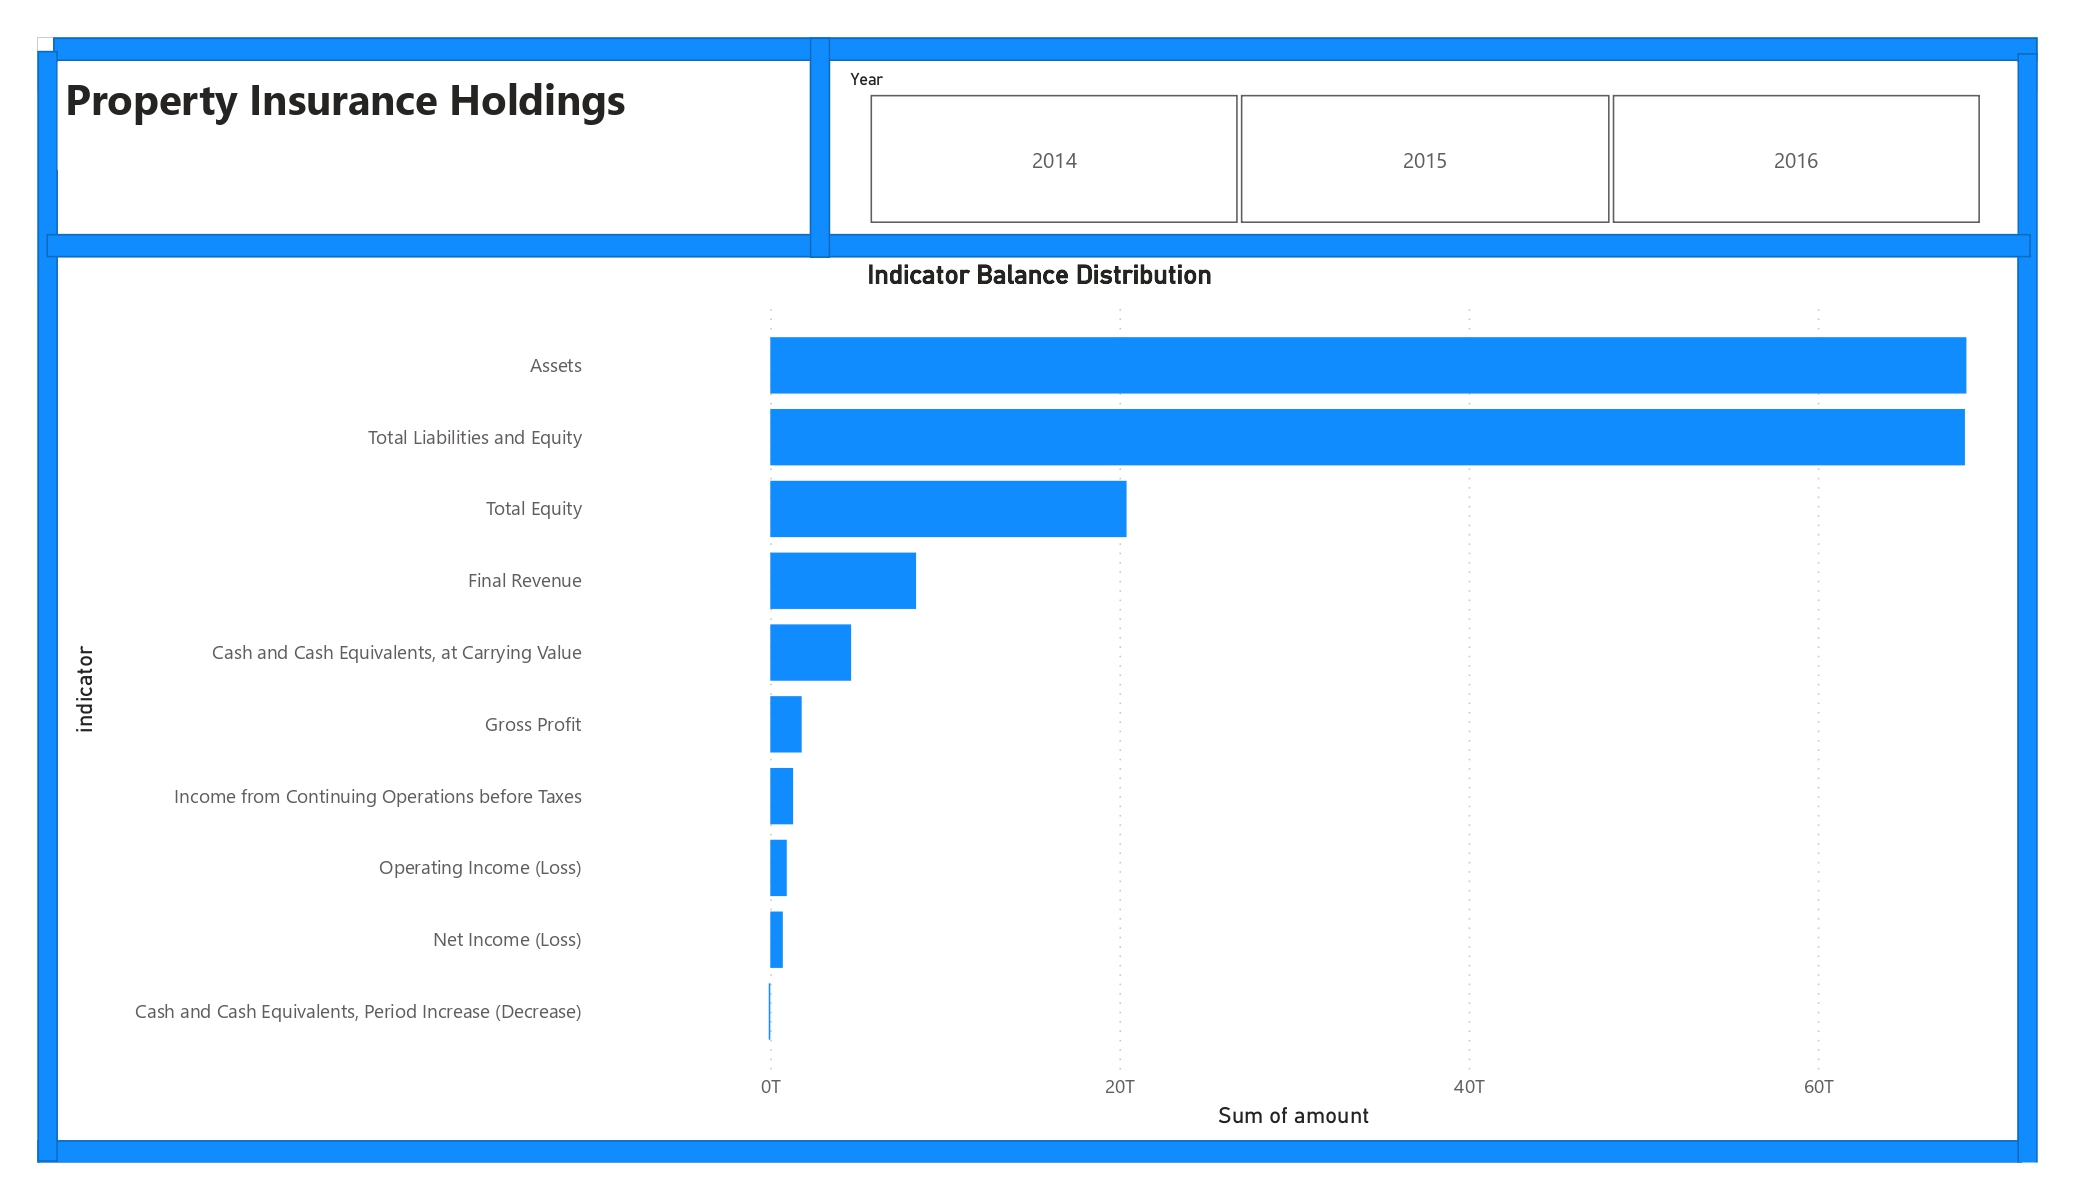

The page's visual inventory and layout, read from the dashboard file:
{"tool":"powerbi","page":{"name":"Page 1","canvas":[1280,720],"ordinal":0},"visuals":[{"type":"shape","box":[10.1,0,1269.9,15.1],"z":0},{"type":"shape","box":[0,705.5,1269.9,15.1],"z":1},{"type":"shape","box":[0,8.4,13.4,710.6],"z":2},{"type":"shape","box":[1266.6,10.1,13.4,710.6],"z":3},{"type":"textbox","box":[13.4,15.1,381.3,68.9],"z":4},{"type":"slicer","fields":{"Values":["fundamentals_dataset.Year"]},"box":[507.1,15.7,760,110],"z":5},{"type":"shape","box":[5,126,1269.9,15.1],"z":6},{"type":"shape","box":[493.9,0,13.4,141.1],"z":7},{"type":"clusteredBarChart","title":"Indicator Balance Distribution","fields":{"Category":["fundamentals_dataset.indicator"],"Y":["Sum(fundamentals_dataset.amount)"]},"box":[17.1,141.4,1248.6,561.4],"z":8}]}

Visuals, with their boxes in screenshot pixels (x1, y1, x2, y2):
shape: [left=53, top=38, right=2038, bottom=61]
shape: [left=38, top=1140, right=2022, bottom=1162]
shape: [left=38, top=51, right=58, bottom=1161]
shape: [left=2017, top=53, right=2038, bottom=1162]
textbox: [left=58, top=61, right=654, bottom=169]
slicer - fundamentals_dataset.Year: [left=830, top=62, right=2017, bottom=234]
shape: [left=45, top=234, right=2030, bottom=258]
shape: [left=809, top=38, right=830, bottom=258]
"Indicator Balance Distribution" clusteredBarChart: [left=64, top=258, right=2015, bottom=1136]
